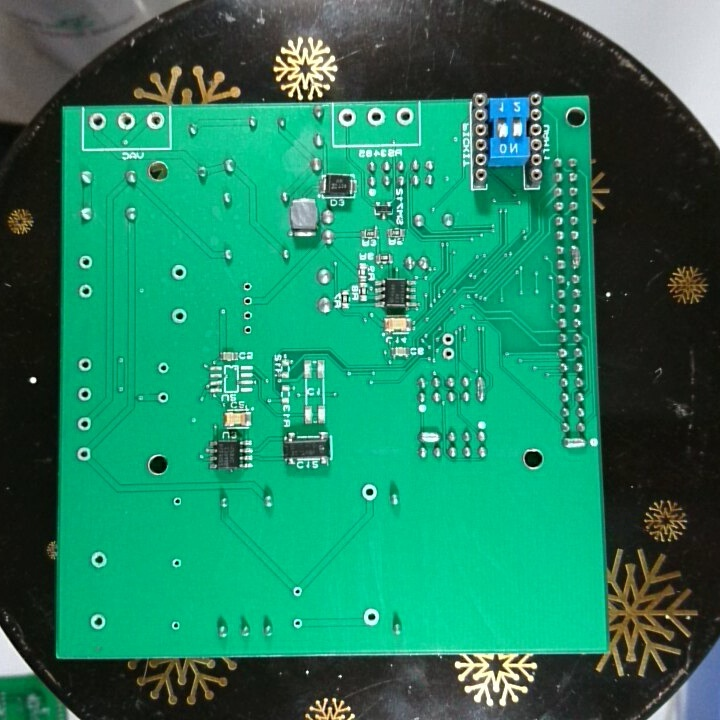F: (114, 108, 139, 135), (364, 106, 388, 130), (392, 105, 417, 128), (86, 109, 108, 134), (87, 550, 111, 572), (143, 109, 165, 133), (337, 107, 359, 131), (360, 606, 382, 629), (168, 261, 190, 284), (86, 611, 108, 633), (168, 306, 189, 327), (359, 482, 378, 503), (73, 445, 94, 464), (75, 413, 94, 434), (74, 386, 94, 405), (75, 355, 94, 375), (75, 281, 94, 301), (76, 252, 95, 272), (155, 359, 173, 378), (440, 346, 458, 363), (239, 292, 257, 309), (154, 389, 171, 406), (440, 330, 457, 346), (168, 618, 184, 635), (169, 555, 185, 572), (169, 494, 185, 511), (239, 322, 255, 338), (290, 615, 305, 632), (290, 583, 305, 599), (239, 279, 255, 294), (239, 308, 255, 323)
P: (560, 435, 588, 451), (568, 243, 584, 271), (474, 374, 488, 404), (417, 428, 443, 444)
